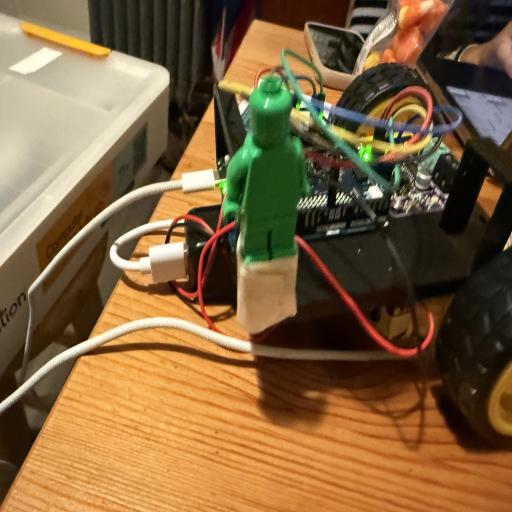Minifig: (223, 76, 310, 263), (250, 239, 251, 240)
